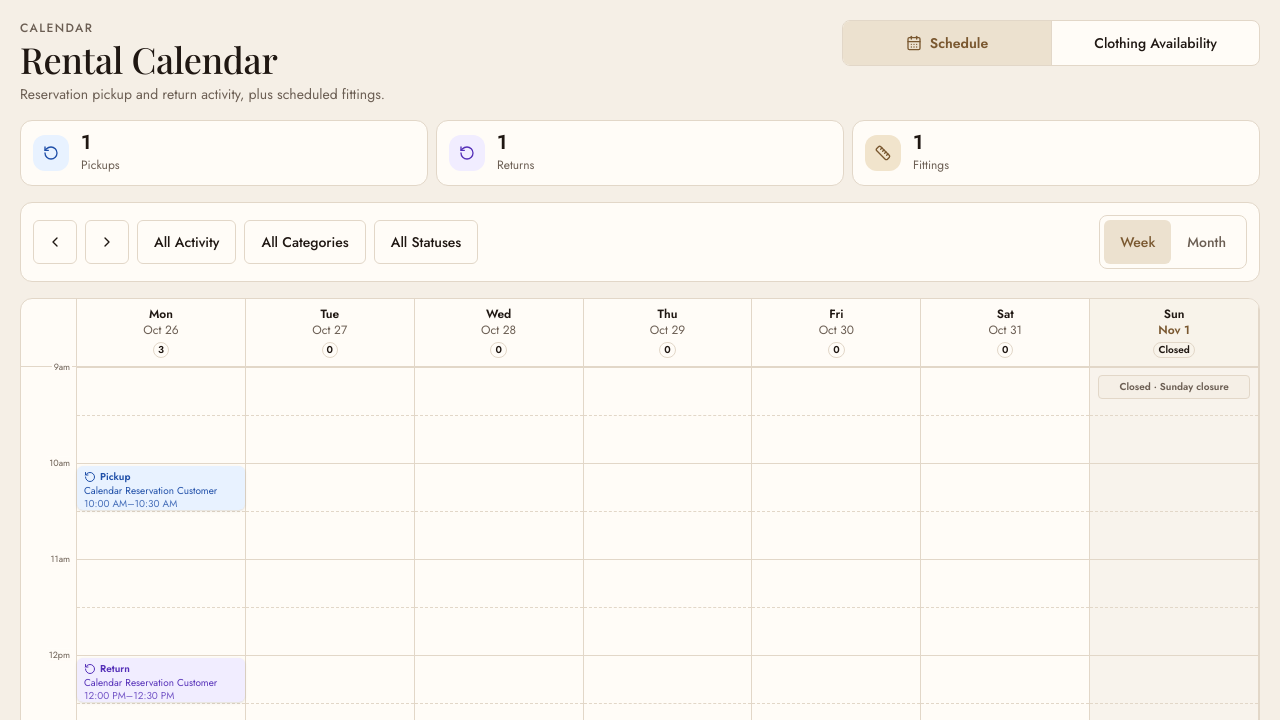
Test: CalendarSchedulePage production details and states › explains restricted reservation detail access without offering an invalid retry
What coordinates should you click on to do the following:
click the button with aria-label "Open reservation details: Pickup"
I would click on:
 (161, 488)
Its box is [77,466,245,510].
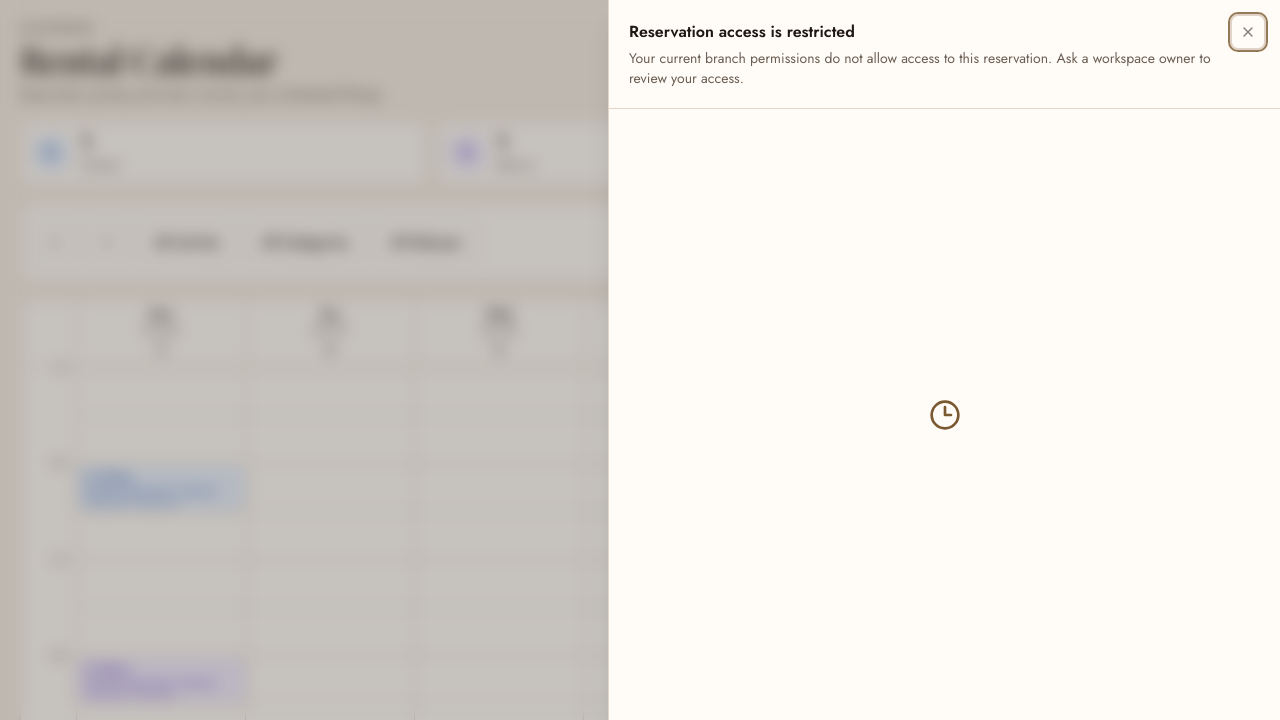
Expected: the heading "Reservation access is restricted" is shown, [629,20,855,43]
